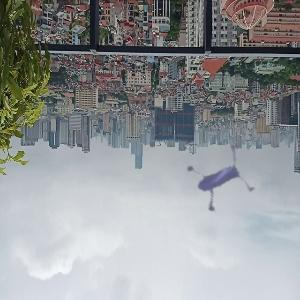drone: (165, 123, 272, 230)
